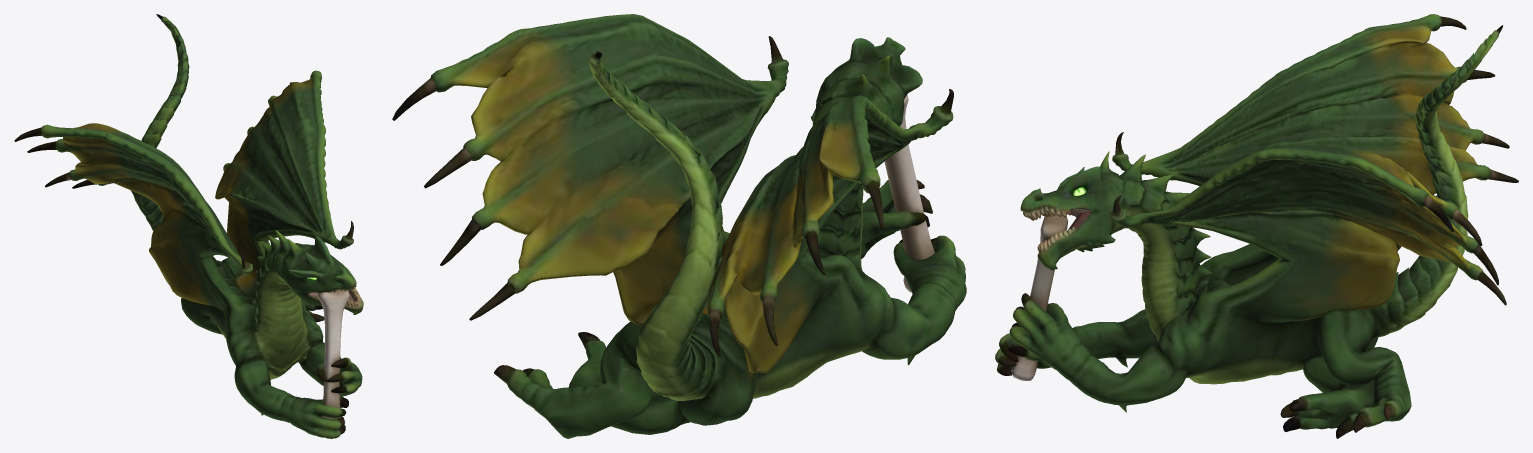
File: MZ4250 - Dragon Green Wyrmling.glb
3 views of the same model, side by side, from view 1: azimuth 30°, elevation 25°; view 2: azimuth 150°, elevation 25°; view 3: azimuth 270°, elevation 25° (orthographic). The views are drawn at different scales.
Parts seen in each view (by area): view 1: Generic Bone Scatter.001; view 2: Generic Bone Scatter.001; view 3: Generic Bone Scatter.001.
Part boxes in pixels (x1,y1,x2,y2): Generic Bone Scatter.001: (14,14,363,438); Generic Bone Scatter.001: (392,14,966,438); Generic Bone Scatter.001: (995,14,1518,438).
Bounding box in the file's own units: 0.7514 × 0.682 × 0.8777.
Materials: 1 (1 with a texture image).
